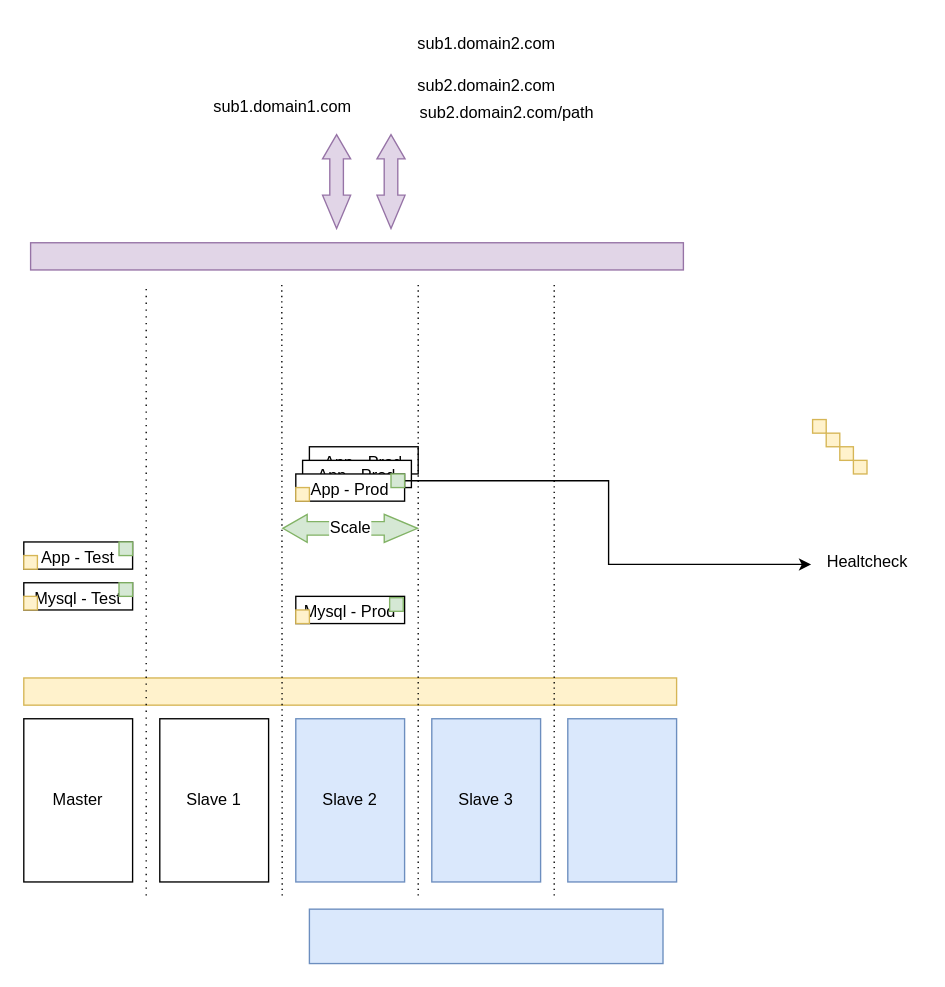
Image size: 945x987. Some labels were removed from this diagram. The shapes that lost their labels are listed below. From the top down, each one's centre as x and y in pixels, then its label:
At pixel 356 255: "Ingress Controller (Load Balancer/Router)".
At pixel 349 691: "Service Mesh / Monitoring / Logs".
At pixel 621 799: "Slave 4".
At pixel 485 936: "Yalnızca Production Pod 'lar".
